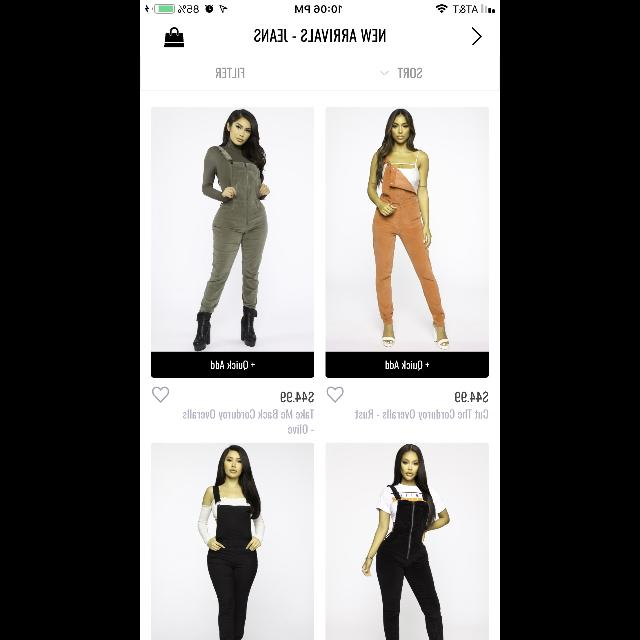icon: (164, 28, 184, 48), (326, 386, 344, 404), (152, 386, 168, 404), (472, 27, 482, 45), (379, 71, 388, 75)
image: (150, 107, 314, 351), (326, 107, 488, 351), (150, 442, 314, 640), (326, 442, 488, 640)
text: (182, 410, 314, 434), (254, 30, 386, 42), (354, 410, 488, 420), (454, 391, 488, 404), (280, 391, 314, 404)
textbutton: (140, 56, 320, 90), (320, 56, 500, 90), (150, 352, 314, 378), (326, 352, 488, 378)
uppertaskbar: (140, 0, 500, 14)
